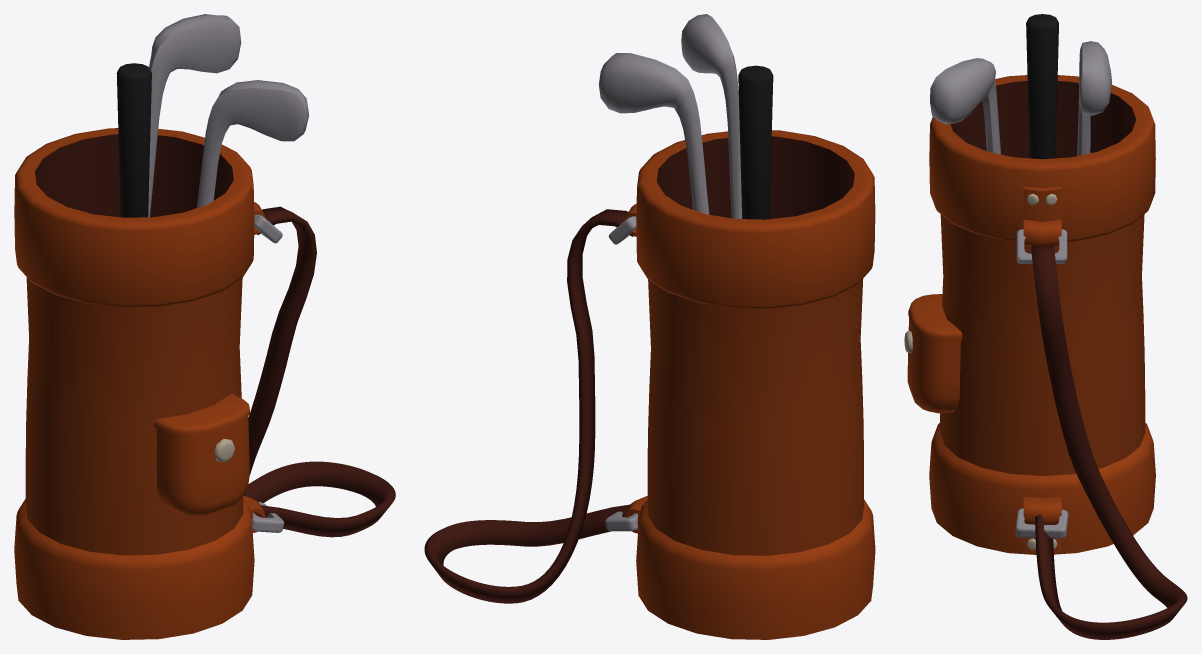
File: golf-bag.glb
3 renders of one model, left to right at view 1: azimuth 30°, elevation 25°; view 2: azimuth 150°, elevation 25°; view 3: azimuth 270°, elevation 25°, orthographic. The views are drawn at different scales.
Parts seen in each view (by area): view 1: golf-bag, strap, golf-club.002, golf-club.001, golf-club; view 2: golf-bag, strap, golf-club.001, golf-club, golf-club.002; view 3: golf-bag, strap, golf-club, golf-club.002, golf-club.001.
Part boxes in pixels (x1,y1,x2,y2): golf-bag: (14,128,284,639); strap: (244,206,395,537); golf-club.002: (197,80,309,207); golf-club.001: (148,14,241,217); golf-club: (116,63,151,217); golf-bag: (605,130,875,639); strap: (424,209,633,603); golf-club.001: (598,53,709,214); golf-club: (738,65,773,219); golf-club.002: (681,14,741,218); golf-bag: (904,75,1155,554); strap: (1031,246,1187,639); golf-club: (1026,14,1058,159); golf-club.002: (930,58,1000,154); golf-club.001: (1077,41,1111,155).
Bounding box in the file's own units: 0.7569 × 0.9986 × 0.5039.
